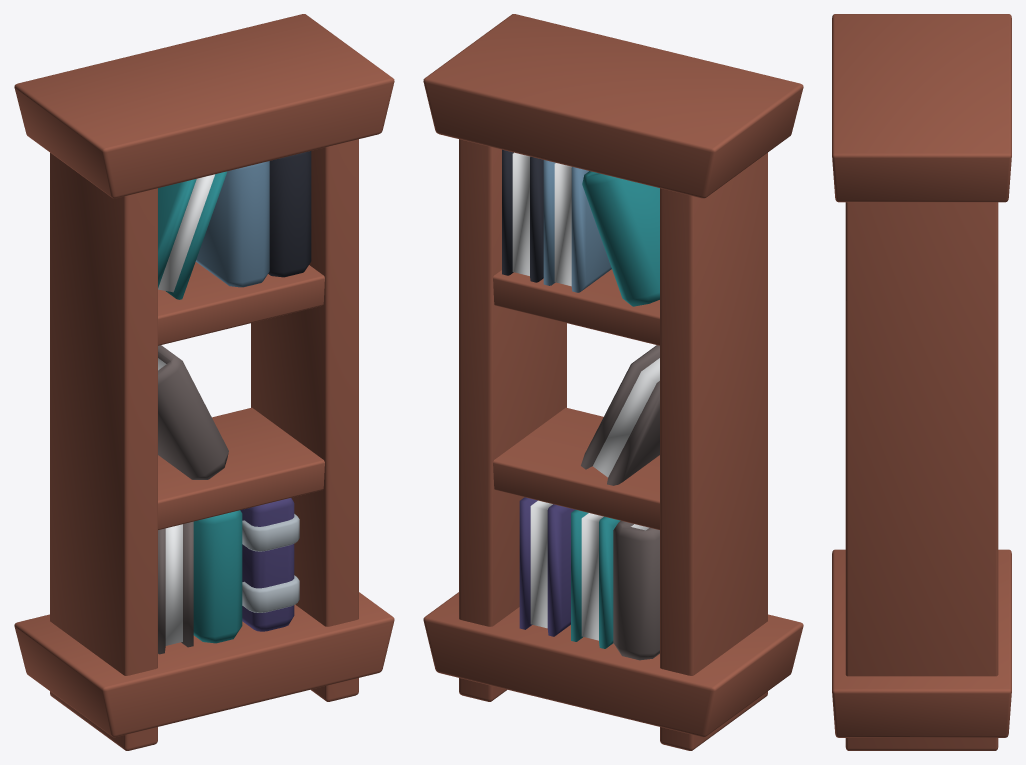
Rendered from kaykit-bookcasefilled.glb.
3 views of the same model, side by side, from view 1: azimuth 30°, elevation 25°; view 2: azimuth 150°, elevation 25°; view 3: azimuth 270°, elevation 25° (orthographic).
Parts seen in each view (by area): view 1: bookcaseFilled; view 2: bookcaseFilled; view 3: bookcaseFilled.
Part boxes in pixels (x1,y1,x2,y2): bookcaseFilled: [14, 14, 394, 750]; bookcaseFilled: [423, 14, 803, 750]; bookcaseFilled: [832, 14, 1011, 750].
Bounding box in the file's own units: 0.9947 × 2 × 0.5334.
Materials: 4 (4 with a texture image).
